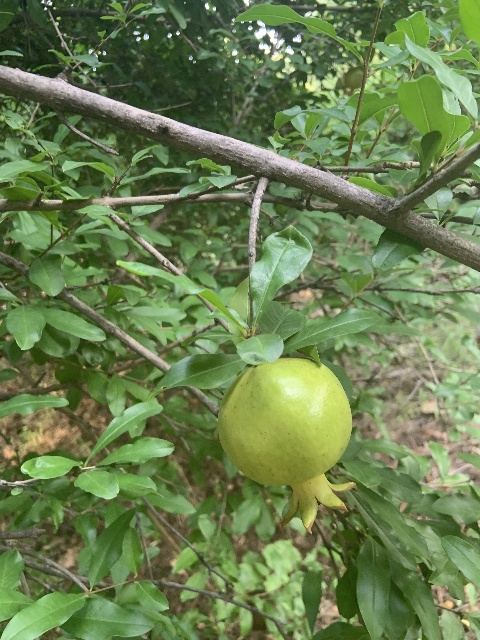mid-growth: (217, 356, 357, 534), (343, 68, 363, 95)
